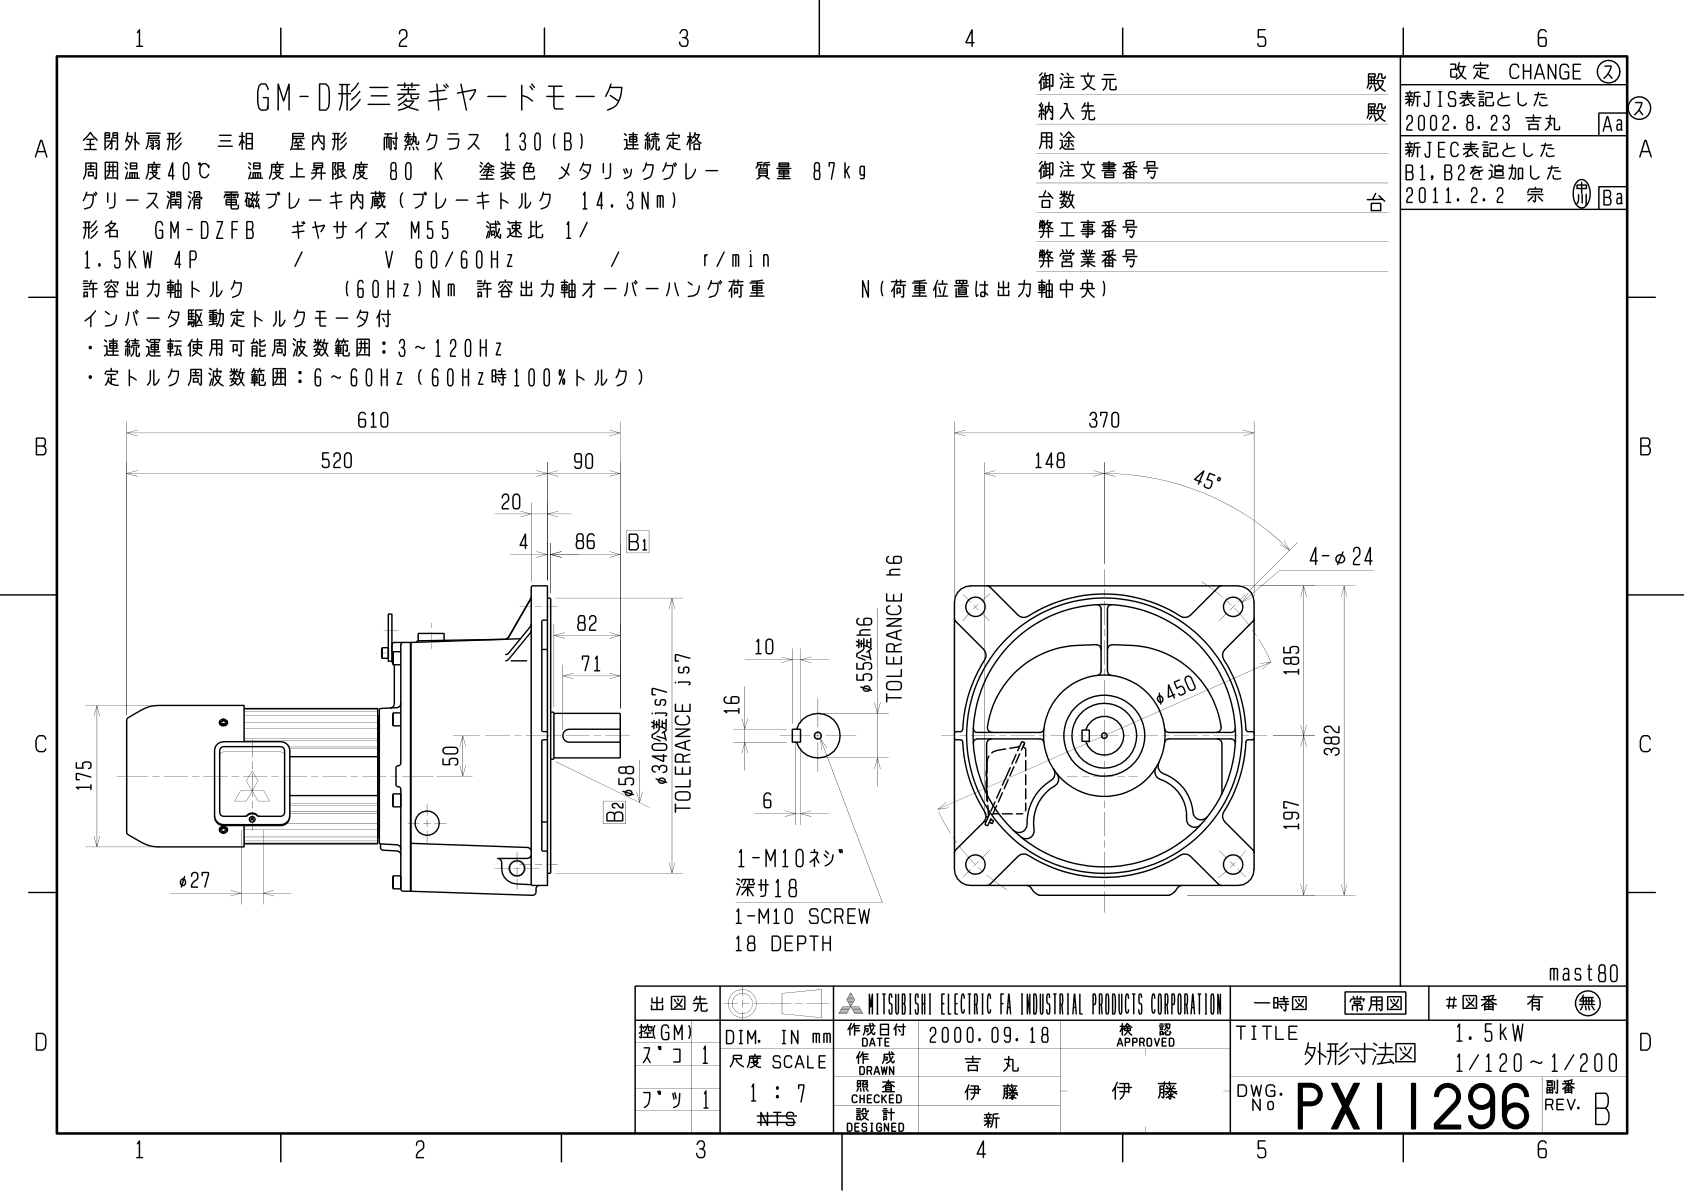GM_D_インバータ屋内_三相_フランジ: (12, 9, 1681, 1191)
